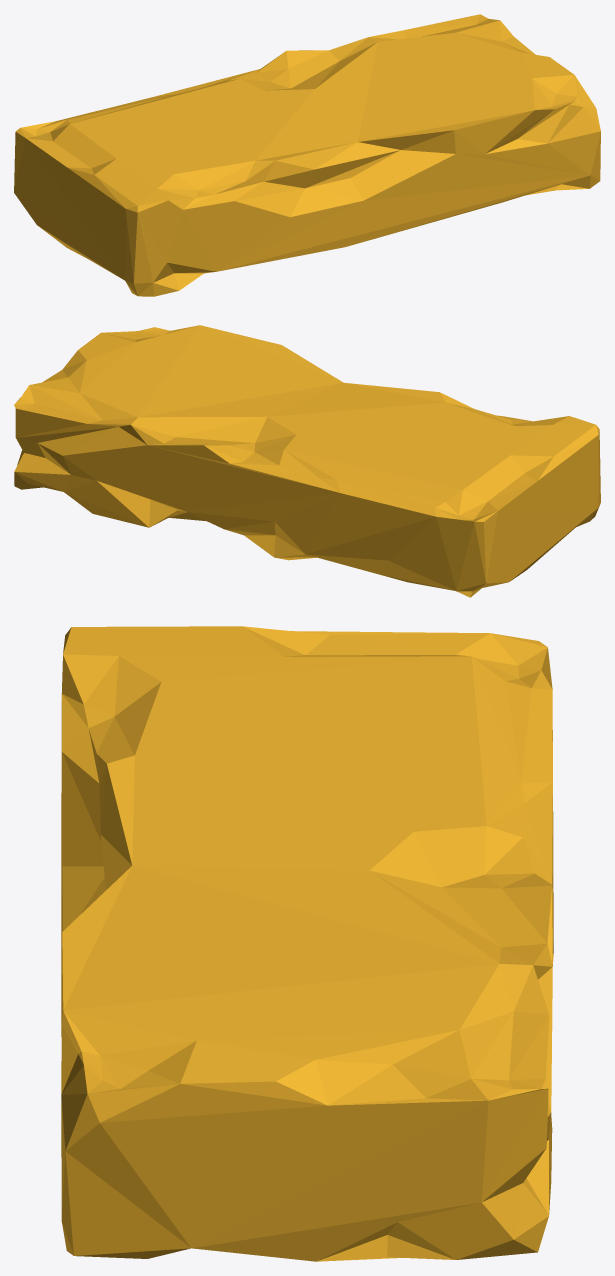
The model's file is gold bar 1.glb.
3 renders of one model, top to bottom at view 1: azimuth 30°, elevation 25°; view 2: azimuth 150°, elevation 25°; view 3: azimuth 270°, elevation 25°, orthographic. The views are drawn at different scales.
Parts seen in each view (by area): view 1: Cube.001; view 2: Cube.001; view 3: Cube.001.
Part boxes in pixels (left/top/right/bottom): Cube.001: left=14, top=14, right=600, bottom=296; Cube.001: left=14, top=325, right=600, bottom=597; Cube.001: left=61, top=626, right=553, bottom=1261.
Bounding box in the file's own units: 0.1304 × 0.0257 × 0.0587.
